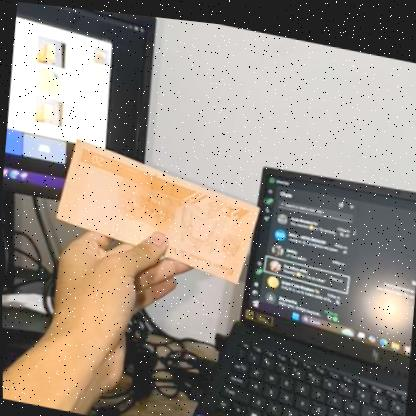twenty-back-vef: (51, 134, 262, 284)
